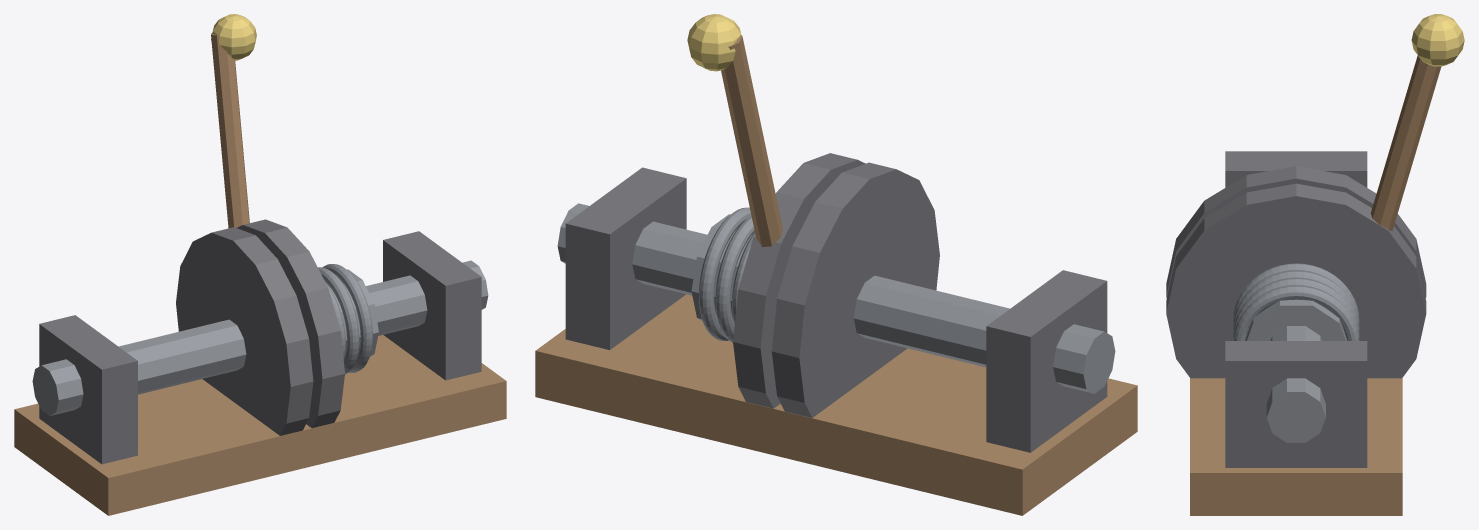
Rendered from mechanical_clutch.glb.
3 renders of one model, left to right at view 1: azimuth 30°, elevation 25°; view 2: azimuth 150°, elevation 25°; view 3: azimuth 270°, elevation 25°, orthographic. The views are drawn at different scales.
Visible parts, largest first — view 1: Cube, Cylinder.002, Cube.001, Cube.002, Cylinder, Cylinder.003, Cylinder.008, Cylinder.001, Torus.003, Sphere, Torus.002, Cylinder.004; view 2: Cube, Cylinder.002, Cube.001, Cube.002, Cylinder, Cylinder.003, Cylinder.008, Cylinder.001, Sphere, Torus.003, Torus.002, Cylinder.004; view 3: Cylinder.003, Cube, Cube.002, Cylinder.008, Cylinder.002, Cylinder.001, Cube.001, Cylinder.004, Torus.003, Sphere, Torus, Torus.002 (+1 smaller).
Part boxes in pixels (x1,y1,x2,y2): Cube: (14,335,506,515); Cylinder.002: (176,227,313,435); Cube.001: (39,315,137,464); Cube.002: (383,231,481,380); Cylinder: (32,319,246,415); Cylinder.003: (237,219,344,428); Cylinder.008: (211,33,249,228); Cylinder.001: (366,260,488,335); Torus.003: (322,264,372,372); Sphere: (211,14,256,60); Torus.002: (318,267,359,374); Cylinder.004: (328,269,378,356); Cube: (535,294,1137,515); Cylinder.002: (771,162,939,417); Cube.001: (986,270,1107,452); Cube.002: (565,167,686,349); Cylinder: (853,275,1115,393); Cylinder.003: (733,153,865,408); Cylinder.008: (721,34,782,246); Cylinder.001: (557,203,707,295); Sphere: (687,14,741,71); Torus.003: (699,207,751,340); Torus.002: (715,216,754,342); Cylinder.004: (691,214,754,320); Cylinder.003: (1166,183,1426,378); Cube: (1190,378,1402,515); Cube.002: (1225,341,1367,467); Cylinder.008: (1370,55,1441,230); Cylinder.002: (1166,166,1426,298); Cylinder.001: (1266,326,1325,442); Cube.001: (1225,151,1367,187); Cylinder.004: (1245,299,1347,340); Torus.003: (1233,286,1359,340); Sphere: (1411,14,1464,66); Torus: (1233,263,1359,323); Torus.002: (1233,278,1359,338).
Bounding box in the file's own units: 0.95 × 0.785 × 0.505.
